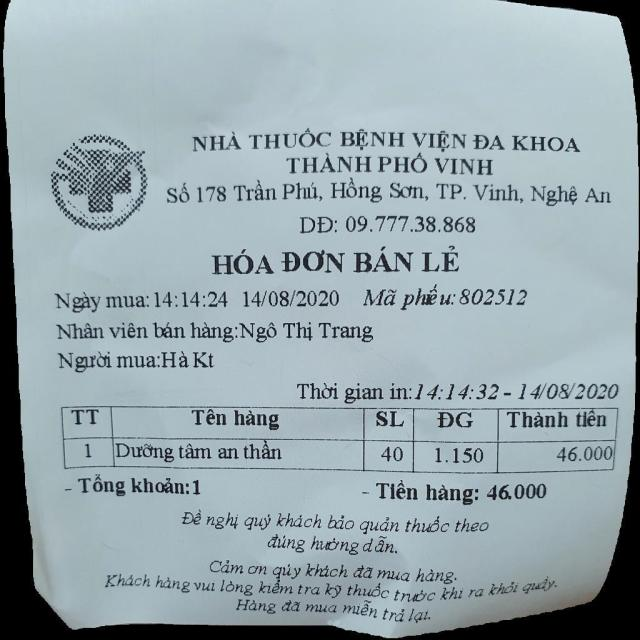Date: (242, 288, 349, 310)
Store_Name: (190, 114, 591, 182)
amount_number: (483, 479, 550, 506)
label_total: (376, 479, 475, 505)
